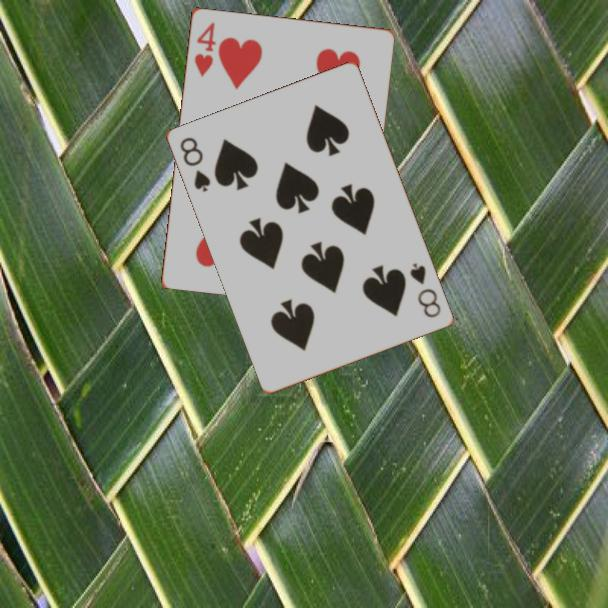h04: (191, 18, 219, 79)
s08: (407, 259, 444, 321), (177, 134, 214, 195)
